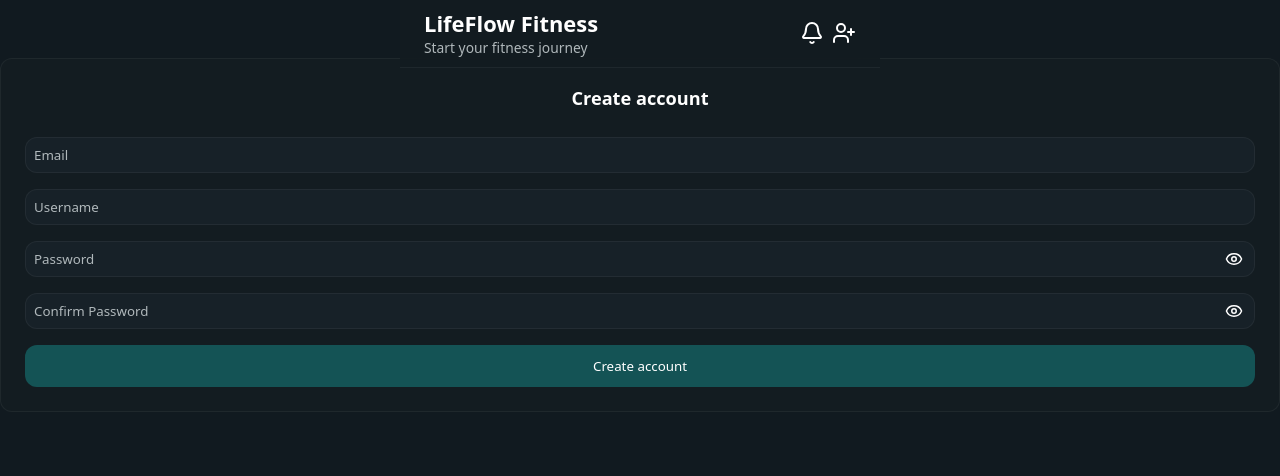
Test case: Register › shows error if passwords do not match
Type "test@test.com" into the field with placeholder "Email" at (640, 155), box [25,137,1255,173]
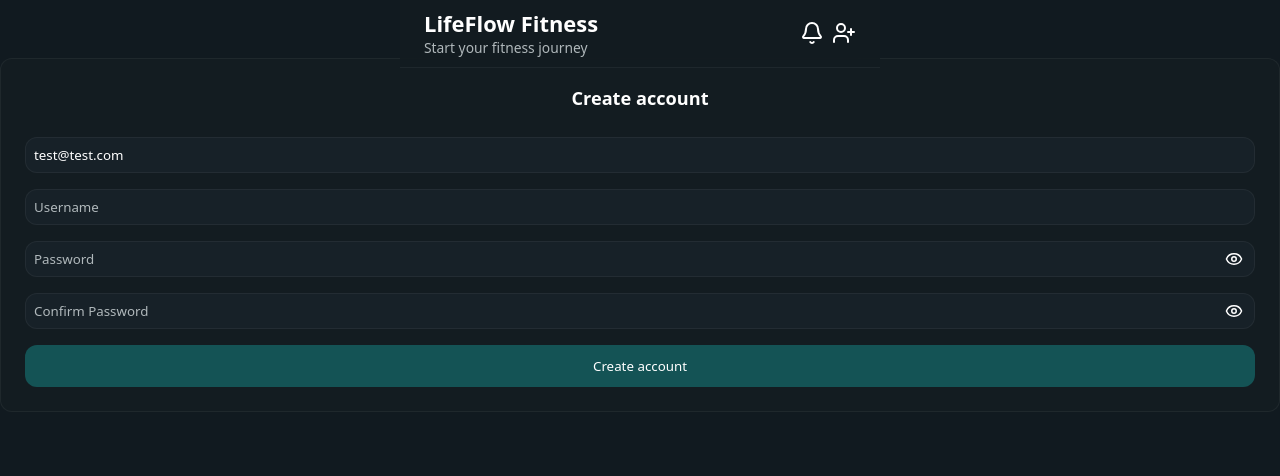
Type "sofia" into the field with placeholder "Username" at (640, 207), box [25,189,1255,225]
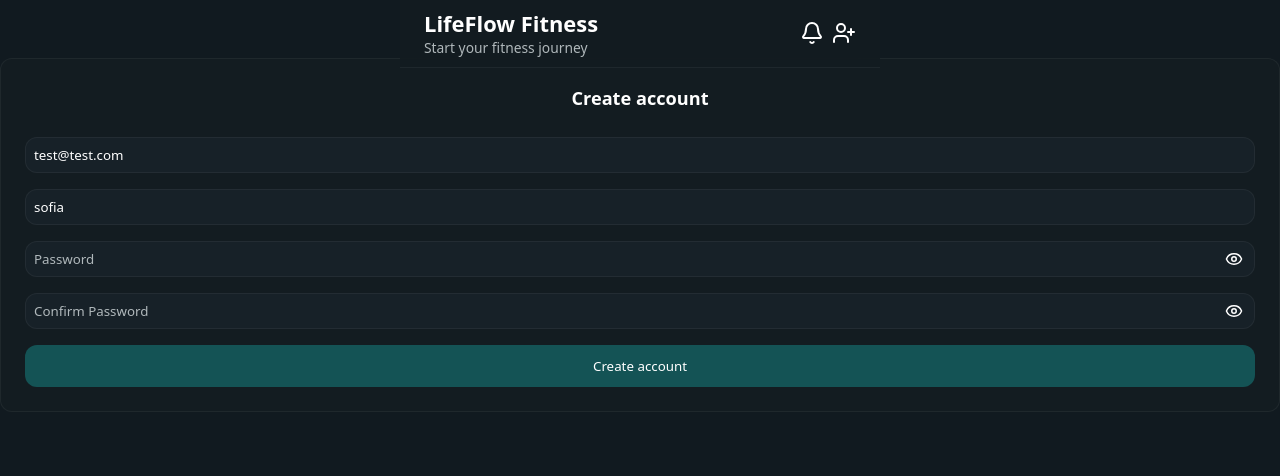
Type "123" into the password field with placeholder "Password" at (640, 259), box [25,241,1255,277]
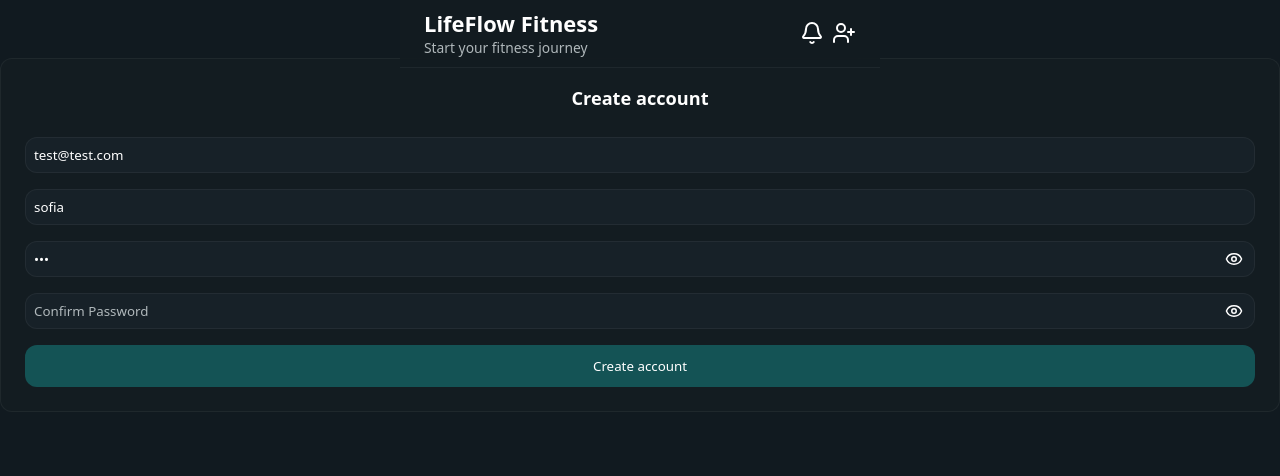
Type "456" into the password field with placeholder "Confirm Password" at (640, 311), box [25,293,1255,329]
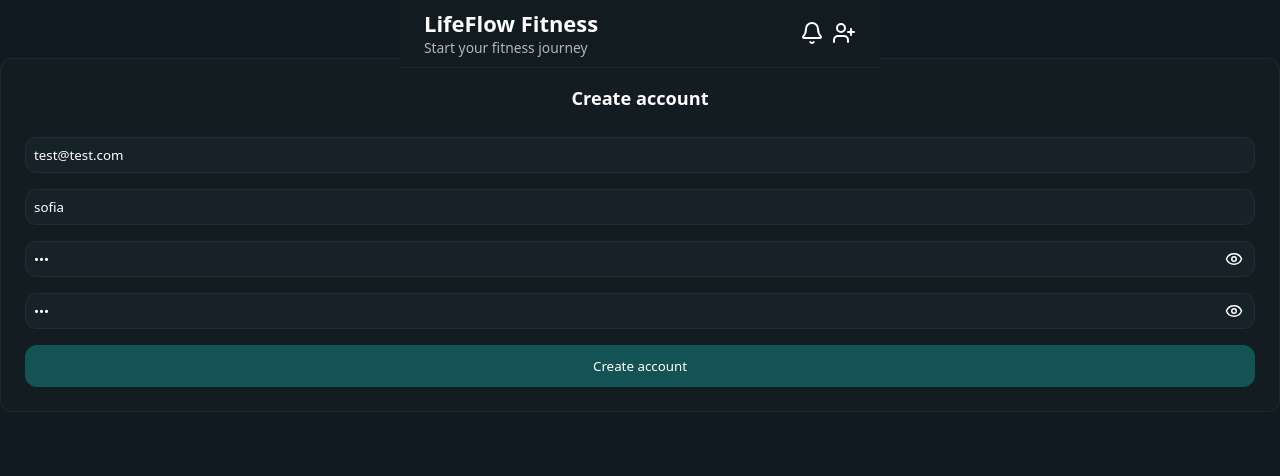
Click the button "Create account" at (640, 366), box [25,345,1255,387]
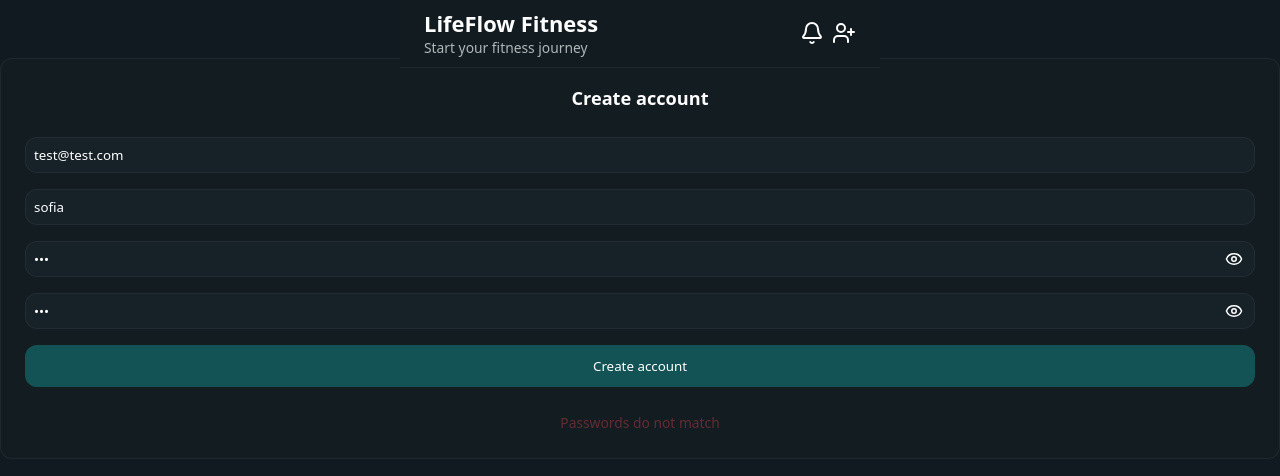
Now the text "Passwords do not match" is shown, box [560,413,720,432]
